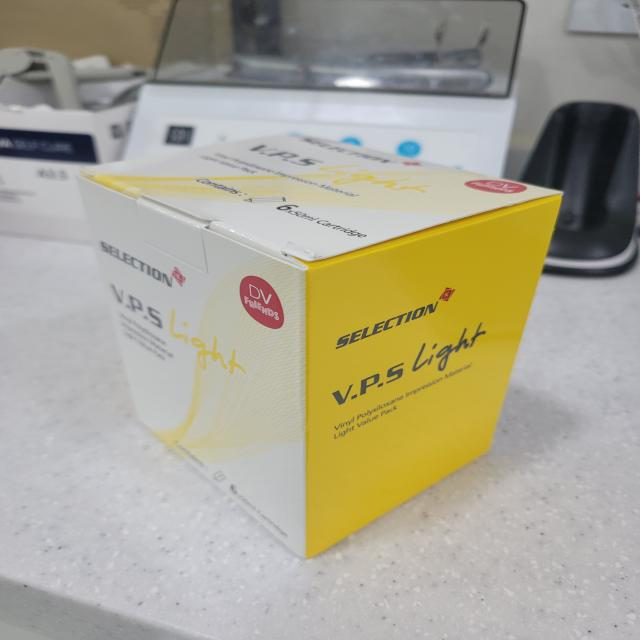impression: (55, 114, 577, 575)
